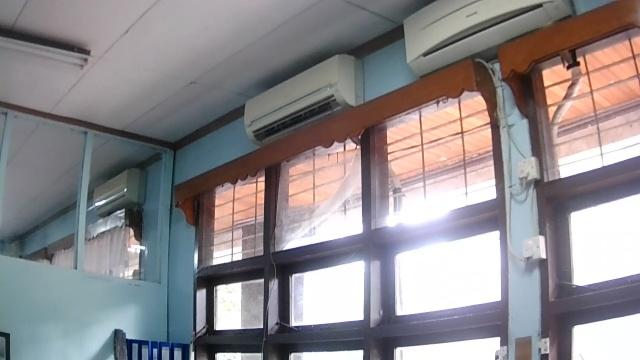AC: (401, 0, 572, 80), (242, 51, 362, 149), (90, 166, 147, 218)
